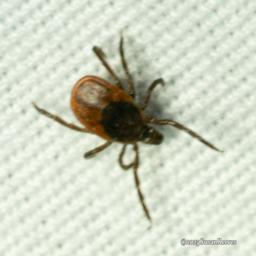Ixodes scapularis: (30, 104, 141, 256)
